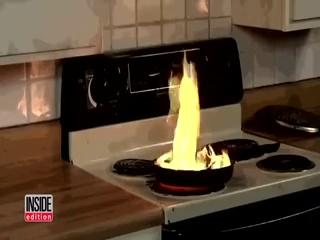Fire: (152, 15, 236, 172)
